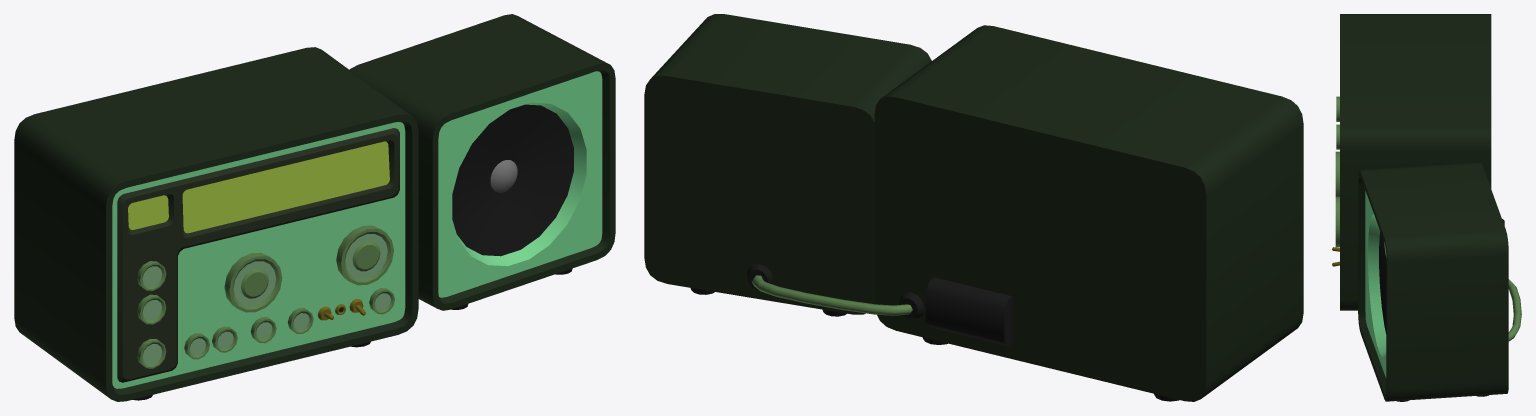
Rendered from radio_00_UVW.fbx.
3 renders of one model, left to right at view 1: azimuth 30°, elevation 25°; view 2: azimuth 150°, elevation 25°; view 3: azimuth 270°, elevation 25°, orthographic. The views are drawn at different scales.
Parts seen in each view (by area): view 1: radio_00; view 2: radio_00; view 3: radio_00.
Boxes of the visible parts, box(x1,y1,x2,y2) form: radio_00: box(14, 14, 615, 401); radio_00: box(644, 14, 1303, 401); radio_00: box(1332, 14, 1521, 401).
Size of the model in its own units: 34.04 by 13.95 by 12.56.
